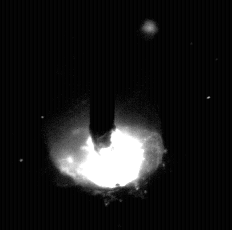arame: (90, 0, 116, 150)
poca: (47, 0, 163, 230)
